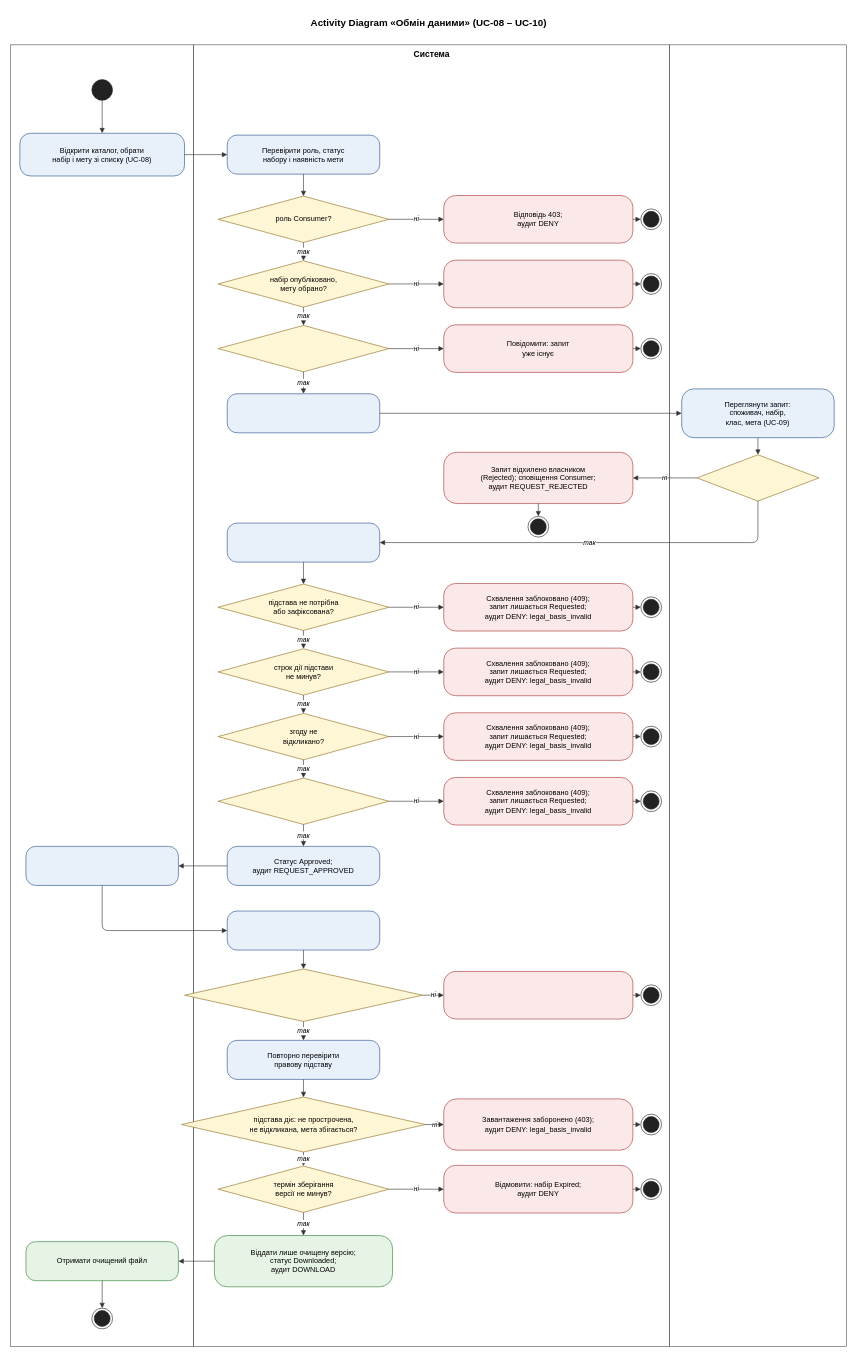
Image size: 857x1357. Some labels were removed from this diagram. The shapes that lost their labels are listed below. From the top down, each one's box as (x1, y1, x2, y2) in pixels, then its label:
(443, 260, 633, 308): Відмовити з поясненням; аудит DENY
(217, 325, 389, 372): активного запиту споживача немає?
(227, 393, 380, 433): Створити запит (Requested) з метою; аудит REQUEST
(696, 454, 819, 501): схвалити?
(227, 522, 380, 562): Перевірити правову підставу набору
(10, 44, 194, 1347): Consumer
(669, 44, 846, 1347): Provider
(217, 777, 389, 824): мета запиту збігається з метою підстави?
(25, 846, 178, 885): Натиснути «Завантажити» (UC-10)
(227, 910, 380, 950): Перевірити права: роль, клас версії, статус запиту
(184, 968, 422, 1021): Consumer, запит Approved або Downloaded, не сирий файл?
(443, 971, 633, 1019): Відповідь 403, файл не віддано; аудит DENY
